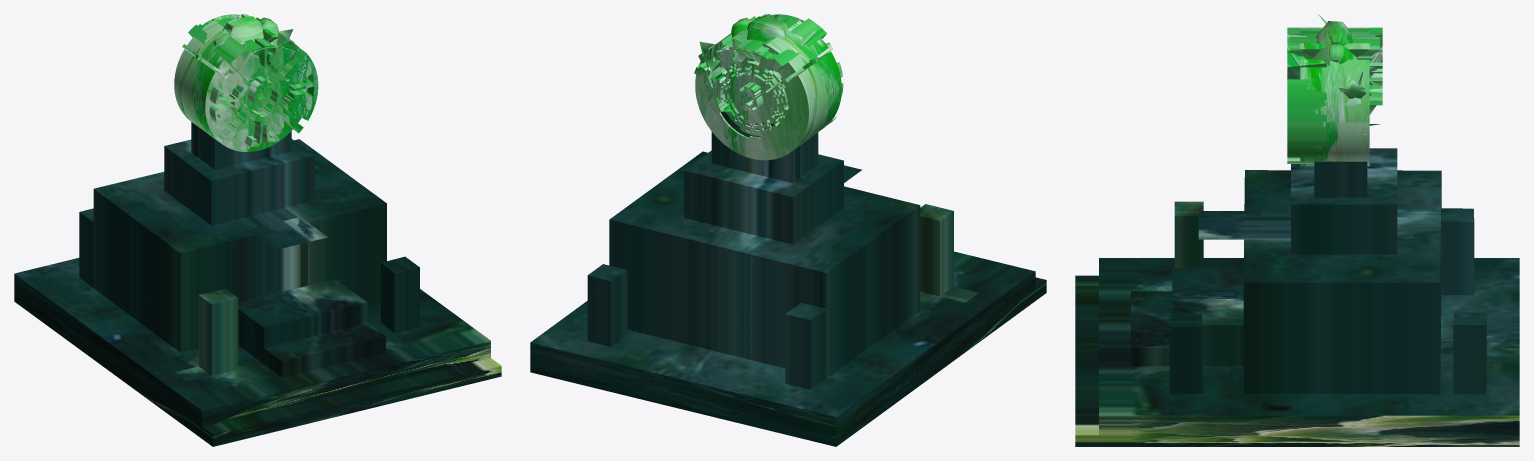
The model's file is Piramide 2.01.fbx.
3 renders of one model, left to right at view 1: azimuth 30°, elevation 25°; view 2: azimuth 150°, elevation 25°; view 3: azimuth 270°, elevation 25°, orthographic. The views are drawn at different scales.
Parts seen in each view (by area): view 1: Piramide; view 2: Piramide; view 3: Piramide.
Boxes of the visible parts, bbox=[...] form: Piramide: bbox=[14, 14, 501, 446]; Piramide: bbox=[530, 14, 1046, 446]; Piramide: bbox=[1075, 14, 1519, 446].
Bounding box in the file's own units: 10.75 × 10.87 × 12.81.
Materials: 2 (2 with a texture image).
